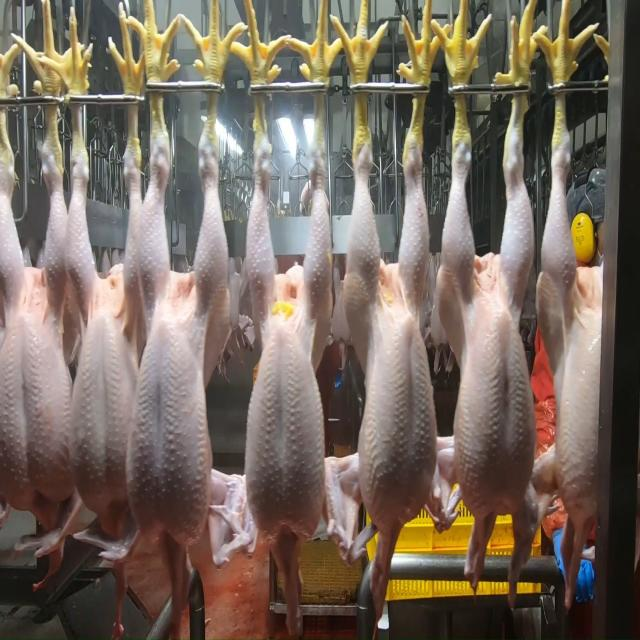chicken: (433, 88, 538, 520), (124, 135, 229, 550), (340, 129, 440, 521), (242, 137, 333, 552), (64, 138, 144, 529), (0, 125, 68, 515), (541, 138, 606, 523)
